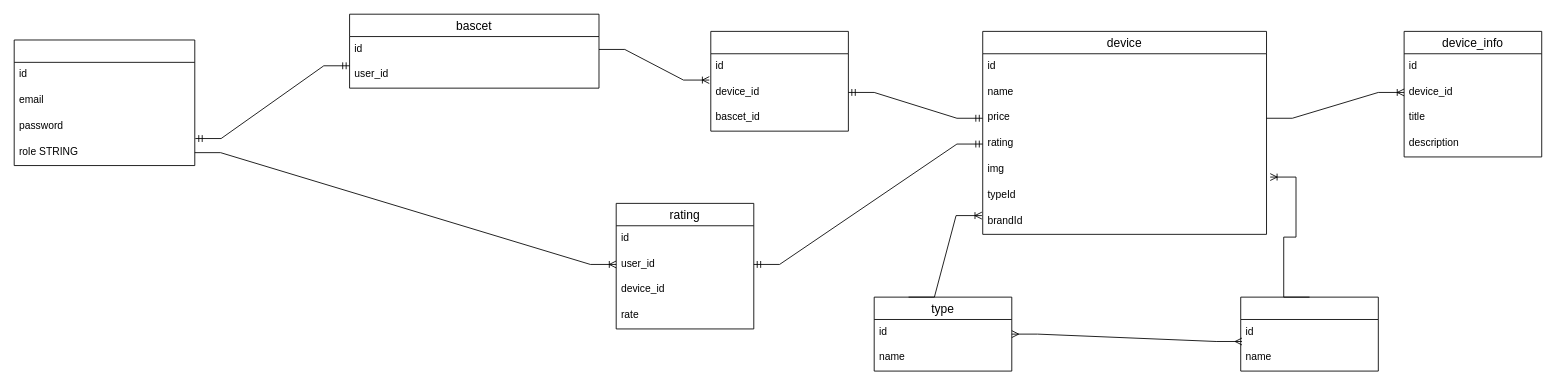
The diagram is 1556 pixels wide and 385 high, and some of its shapes have lost their labels. The box of each missing label's shape, as (x1, y1, x2, y2) in pixels:
bascet_device: (710, 31, 848, 131)
brand: (1240, 296, 1378, 371)
user: (13, 39, 195, 166)
